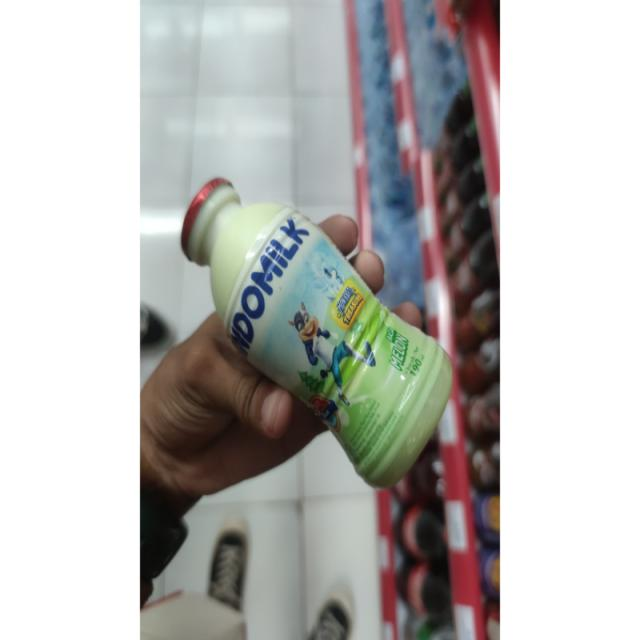botol: (177, 167, 475, 492)
